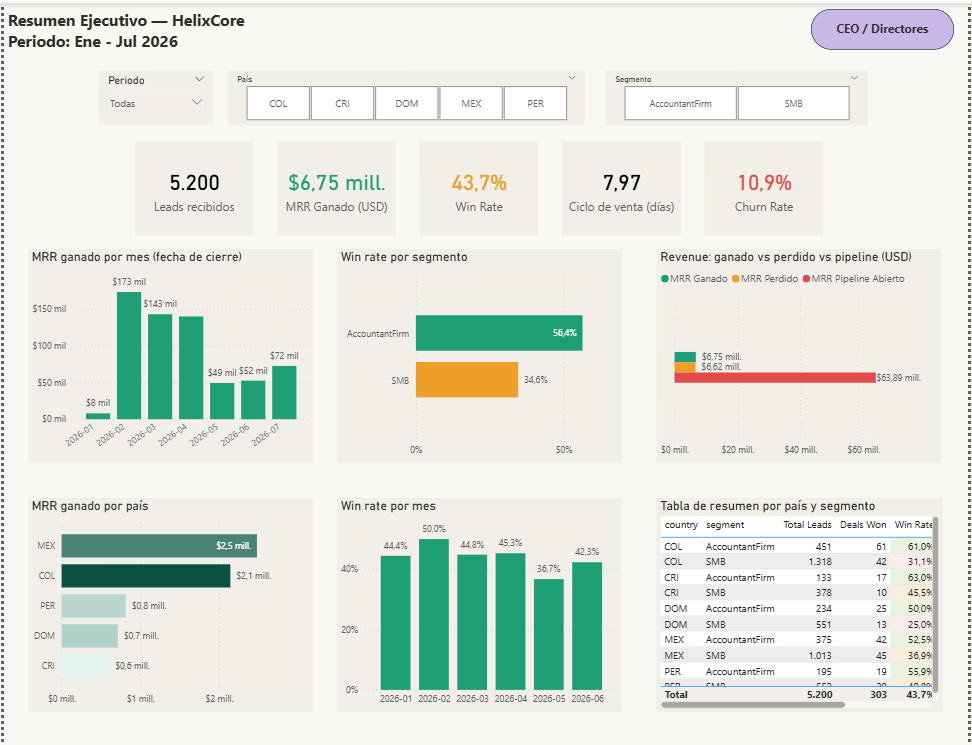

Layout of this report page (visuals, bound fields, positions):
{"tool":"powerbi","page":{"name":"Resumen Ejecutivo","canvas":[1300,1000],"ordinal":0},"visuals":[{"type":"textbox","box":[0,2,400,71],"z":0},{"type":"slicer","title":"Periodo","fields":{"Values":["Calendario.YearMonth"]},"box":[128.5,91.4,154.9,74.1],"z":0,"group":"g2"},{"type":"clusteredBarChart","title":"MRR ganado por país","fields":{"Category":["leads.country"],"Y":["_Medidas.MRR Ganado"]},"box":[32.5,667.3,384,288],"z":0,"group":"g5"},{"type":"textbox","box":[1088,8.1,192.8,54.8],"z":1000},{"type":"slicer","title":"Periodo","fields":{"Values":["leads.country"]},"box":[303.2,91.3,481.5,73.8],"z":1000,"group":"g2"},{"type":"tableEx","title":"Tabla de resumen por país y segmento","fields":{"Values":["leads.country","leads.segment","_Medidas.Total Leads","_Medidas.Deals Won","_Medidas.Win Rate","_Medidas.MRR Ganado","_Medidas.Churn Rate"]},"box":[879.6,666.8,385.7,288.2],"z":1000,"group":"g5"},{"type":"group","id":"g1","title":"Grupo 5","box":[32.5,91.3,1232.1,864.7],"z":2000},{"type":"slicer","title":"Periodo","fields":{"Values":["leads.segment"]},"box":[811.3,91.3,353,73.8],"z":2000,"group":"g2"},{"type":"clusteredColumnChart","title":"Win rate por mes","fields":{"Category":["Calendario.Year","Calendario.YearMonth"],"Y":["_Medidas.Win Rate"]},"box":[449.3,666.8,383.6,288.2],"z":2000,"group":"g5"},{"type":"card","fields":{"Values":["_Medidas.Total Leads"]},"box":[176.5,187.3,160,128],"z":3000,"group":"g3"},{"type":"group","id":"g2","title":"Grupo 1","box":[128.5,91.3,1032,72],"z":4000,"group":"g1"},{"type":"card","fields":{"Values":["_Medidas.MRR Ganado"]},"box":[368.5,187.3,160,128],"z":4000,"group":"g3"},{"type":"group","id":"g3","title":"Grupo 2","box":[176.5,187.3,936,144],"z":5000,"group":"g1"},{"type":"card","fields":{"Values":["_Medidas.Win Rate"]},"box":[560.5,187.3,160,128],"z":5000,"group":"g3"},{"type":"card","fields":{"Values":["_Medidas.Ciclo Venta Won Dias"]},"box":[752.5,187.3,160,128],"z":6000,"group":"g3"},{"type":"group","id":"g4","title":"Grupo 3","box":[32.5,331.3,1224,288],"z":6000,"group":"g5"},{"type":"card","fields":{"Values":["_Medidas.Churn Rate"]},"box":[944.5,187.3,160,128],"z":7000,"group":"g3"},{"type":"group","id":"g5","title":"Grupo 4","box":[32.5,331.3,1232.8,624],"z":7001,"group":"g1"},{"type":"clusteredColumnChart","title":"MRR ganado por mes (fecha de cierre)","fields":{"Category":["Calendario.YearMonth"],"Y":["_Medidas.MRR by Close Date"]},"box":[32.5,331.3,384,288],"z":8000,"group":"g4"},{"type":"clusteredBarChart","title":"Win rate por segmento","fields":{"Category":["leads.segment"],"Y":["_Medidas.Win Rate"]},"box":[448.5,331.3,384,288],"z":9000,"group":"g4"},{"type":"clusteredBarChart","title":"Revenue: ganado vs perdido vs pipeline (USD)","fields":{"Y":["_Medidas.MRR Ganado","_Medidas.MRR Perdido","_Medidas.MRR Pipeline Abierto"]},"box":[880.5,331.3,384,288],"z":11000,"group":"g4"}]}

Visuals, with their boxes in screenshot pixels (x1, y1, x2, y2), scaled from the page's 1300x1000 canvas onto the 972x745 screenshot:
textbox: [left=0, top=1, right=299, bottom=54]
"Periodo" slicer: [left=96, top=68, right=212, bottom=123]
"MRR ganado por país" clusteredBarChart: [left=24, top=497, right=311, bottom=712]
textbox: [left=813, top=6, right=958, bottom=47]
"Periodo" slicer: [left=227, top=68, right=587, bottom=123]
"Tabla de resumen por país y segmento" tableEx: [left=658, top=497, right=946, bottom=711]
"Grupo 5" group: [left=24, top=68, right=946, bottom=712]
"Periodo" slicer: [left=607, top=68, right=871, bottom=123]
"Win rate por mes" clusteredColumnChart: [left=336, top=497, right=623, bottom=711]
card - _Medidas.Total Leads: [left=132, top=140, right=252, bottom=235]
"Grupo 1" group: [left=96, top=68, right=868, bottom=122]
card - _Medidas.MRR Ganado: [left=276, top=140, right=395, bottom=235]
"Grupo 2" group: [left=132, top=140, right=832, bottom=247]
card - _Medidas.Win Rate: [left=419, top=140, right=539, bottom=235]
card - _Medidas.Ciclo Venta Won Dias: [left=563, top=140, right=682, bottom=235]
"Grupo 3" group: [left=24, top=247, right=939, bottom=461]
card - _Medidas.Churn Rate: [left=706, top=140, right=826, bottom=235]
"Grupo 4" group: [left=24, top=247, right=946, bottom=712]
"MRR ganado por mes (fecha de cierre)" clusteredColumnChart: [left=24, top=247, right=311, bottom=461]
"Win rate por segmento" clusteredBarChart: [left=335, top=247, right=622, bottom=461]
"Revenue: ganado vs perdido vs pipeline (USD)" clusteredBarChart: [left=658, top=247, right=945, bottom=461]
